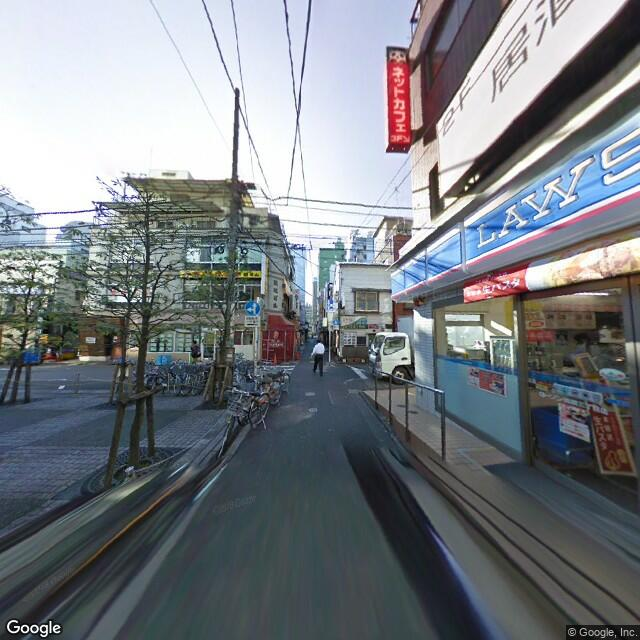lawson: (389, 110, 638, 303)
